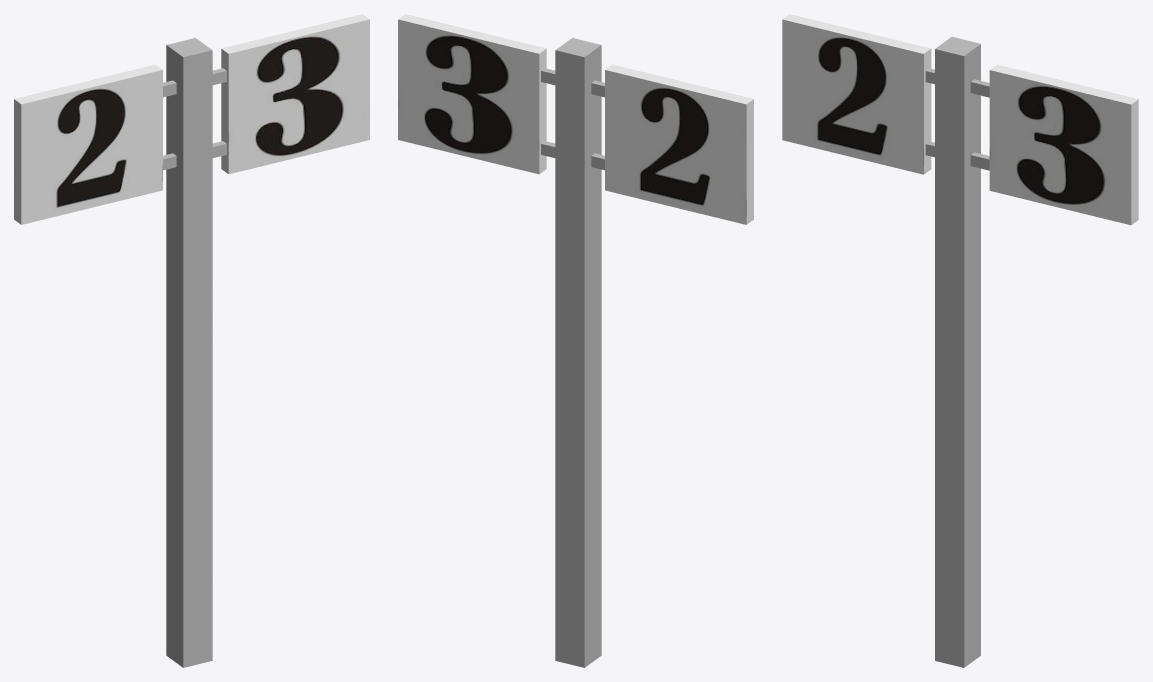
File: PlatformNumber2And3.FBX
3 views of the same model, side by side, from view 1: azimuth 30°, elevation 25°; view 2: azimuth 150°, elevation 25°; view 3: azimuth 330°, elevation 25° (orthographic).
Visible parts, largest first — view 1: PlatformNumber2And3; view 2: PlatformNumber2And3; view 3: PlatformNumber2And3.
Boxes of the visible parts, bbox=[...] form: PlatformNumber2And3: bbox=[14, 14, 369, 667]; PlatformNumber2And3: bbox=[398, 14, 753, 667]; PlatformNumber2And3: bbox=[782, 14, 1138, 667].
Bounding box in the file's own units: 4325 × 362 × 7241.
1 material, 1 textured.
